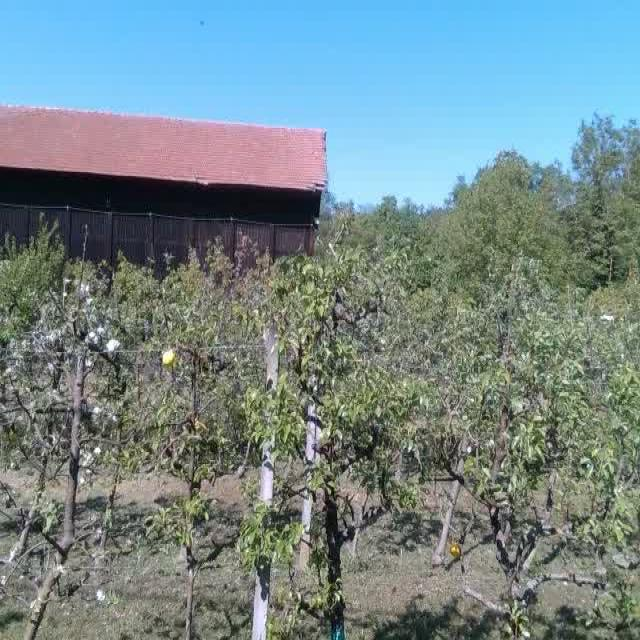yellow: (159, 348, 175, 365), (450, 543, 462, 558)
